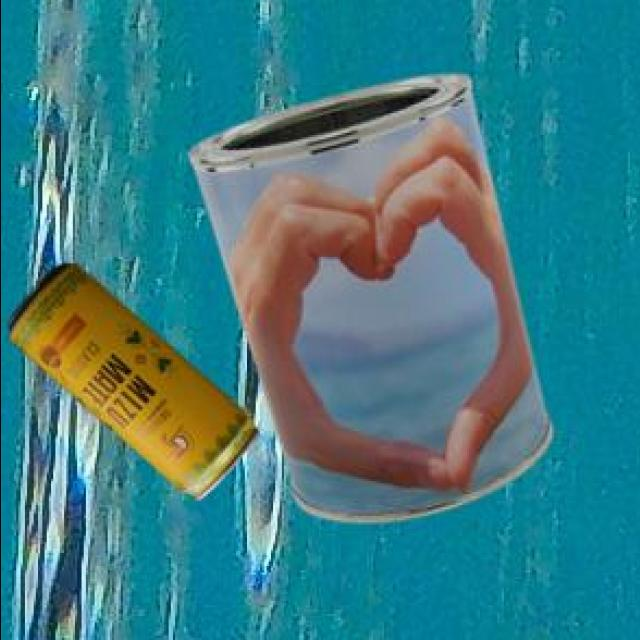logam: (184, 79, 547, 526), (5, 267, 254, 504)
